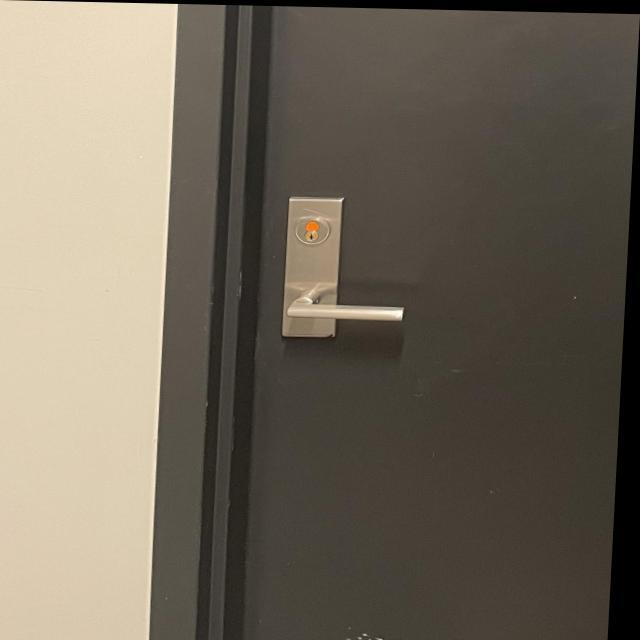door_handle: (271, 279, 424, 344)
